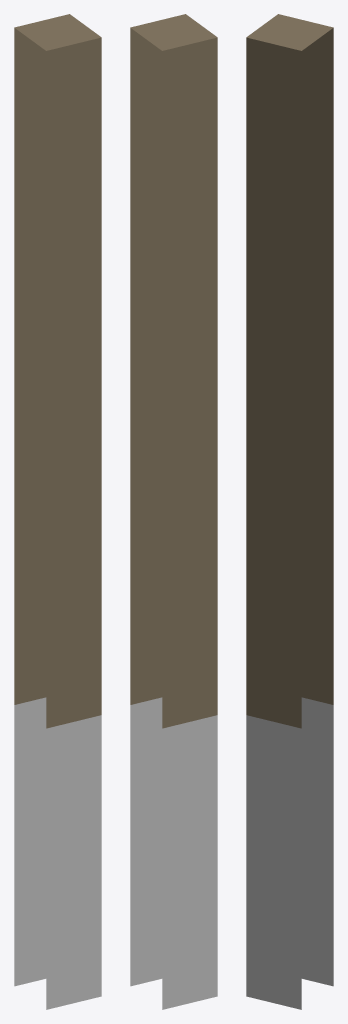
Rendered from SM_Wall_20.FBX.
3 renders of one model, left to right at view 1: azimuth 30°, elevation 25°; view 2: azimuth 210°, elevation 25°; view 3: azimuth 330°, elevation 25°, orthographic.
Visible parts, largest first — view 1: SM_Wall_20; view 2: SM_Wall_20; view 3: SM_Wall_20.
Boxes of the visible parts, box(x1,y1,x2,y2) form: SM_Wall_20: box(14, 14, 101, 1009); SM_Wall_20: box(130, 14, 217, 1009); SM_Wall_20: box(246, 14, 333, 1009).
Size of the model in its own units: 20.01 by 20 by 330.
